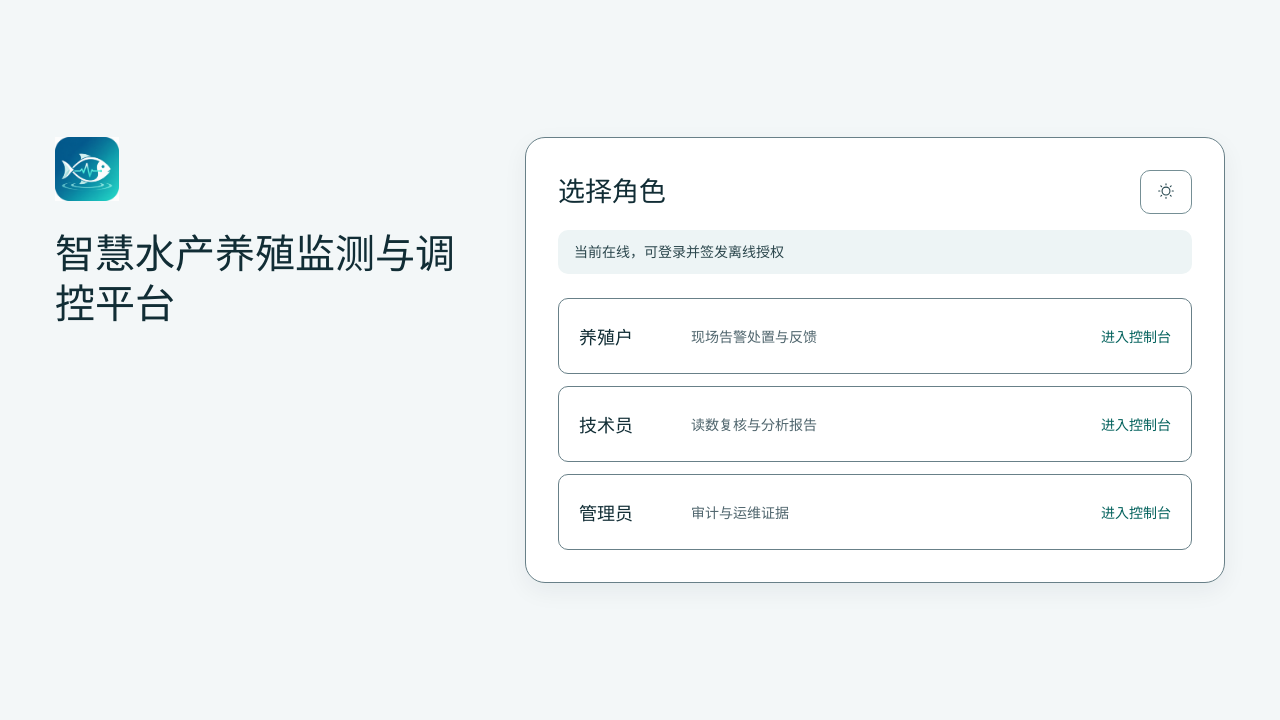
Test: Aquaculture application shell › shows technician navigation but restricts administration
Click the button with test id "login-technician" at {"x": 606, "y": 426}, box [558,386,1192,462]
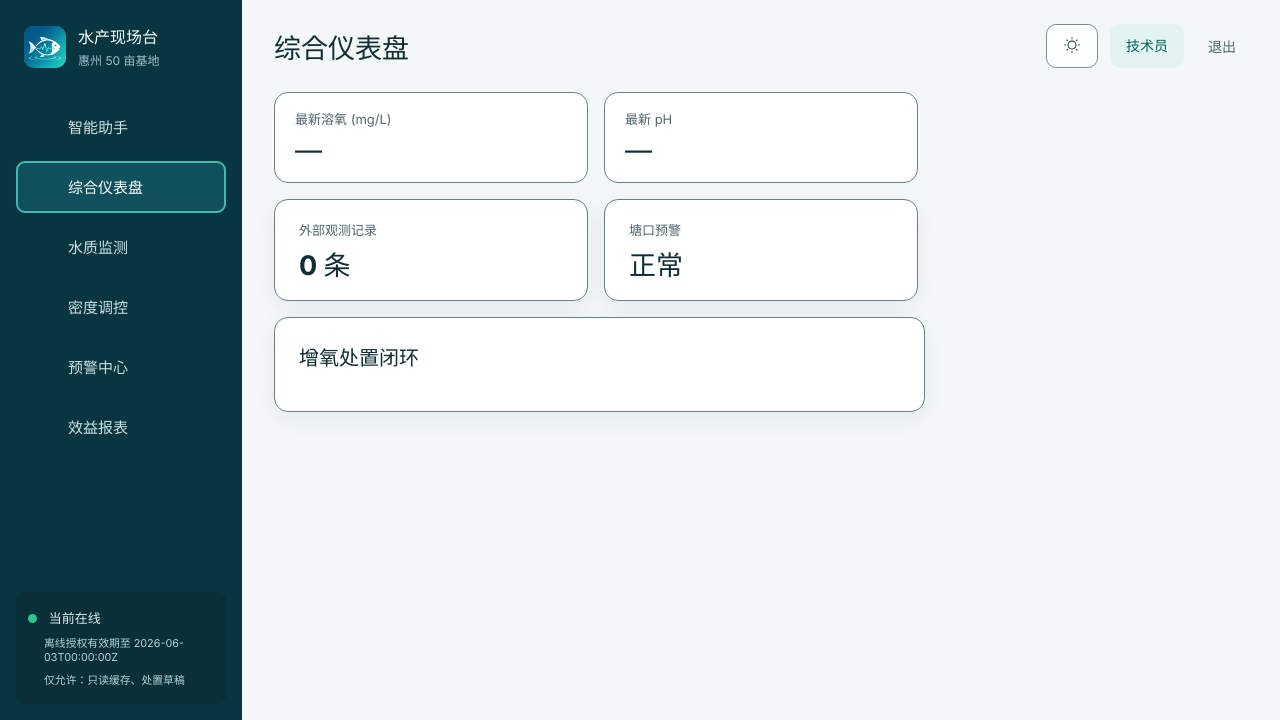
Now the text "综合仪表盘" is shown, box [16,161,226,213]
Now the text "水质监测" is shown, box [68,238,128,256]
Now the text "密度调控" is shown, box [68,298,128,316]
